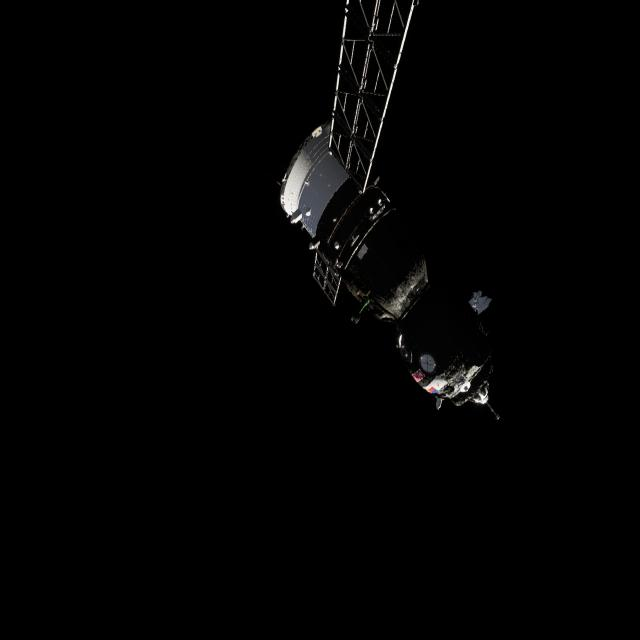Satellites revolving around earth: (276, 1, 502, 420)
